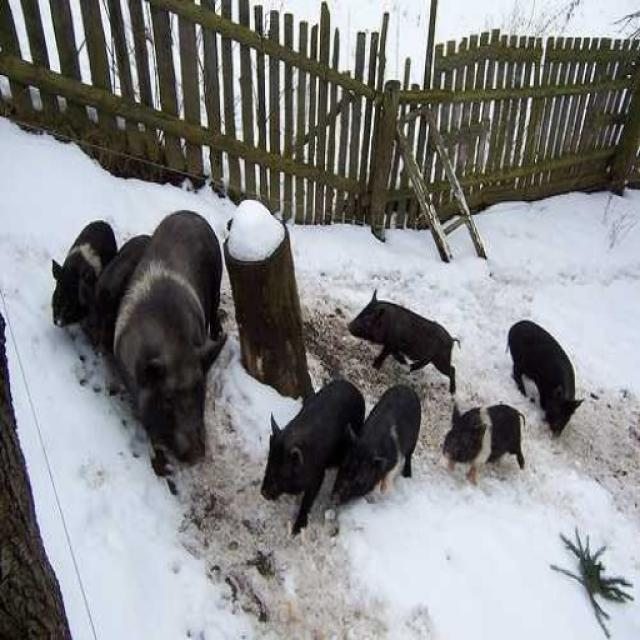pig: (134, 174, 230, 481), (362, 270, 484, 407), (338, 345, 431, 516), (263, 327, 333, 518), (499, 310, 580, 470), (60, 170, 106, 362), (445, 380, 504, 475), (486, 390, 560, 464)
